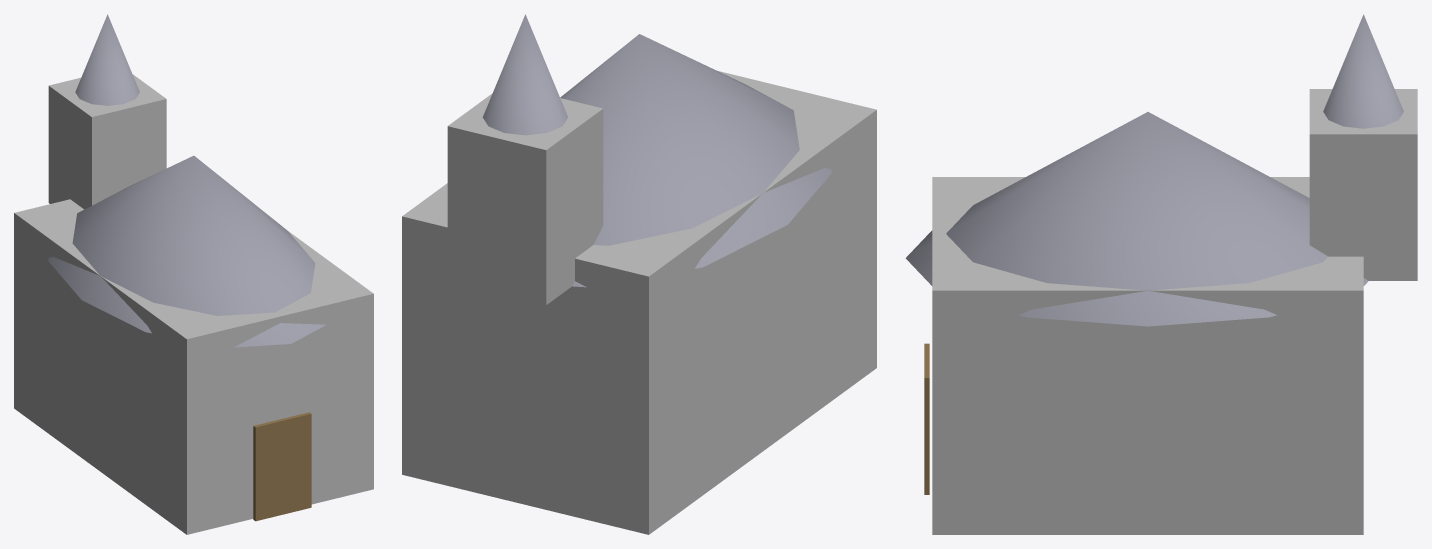
File: env-med-chapel.glb
The picture shows the model from 3 angles, left to right: view 1: azimuth 30°, elevation 25°; view 2: azimuth 150°, elevation 25°; view 3: azimuth 270°, elevation 25°; orthographic projection. The views are drawn at different scales.
Size of the model in its own units: 6 by 9.5 by 9.5.
